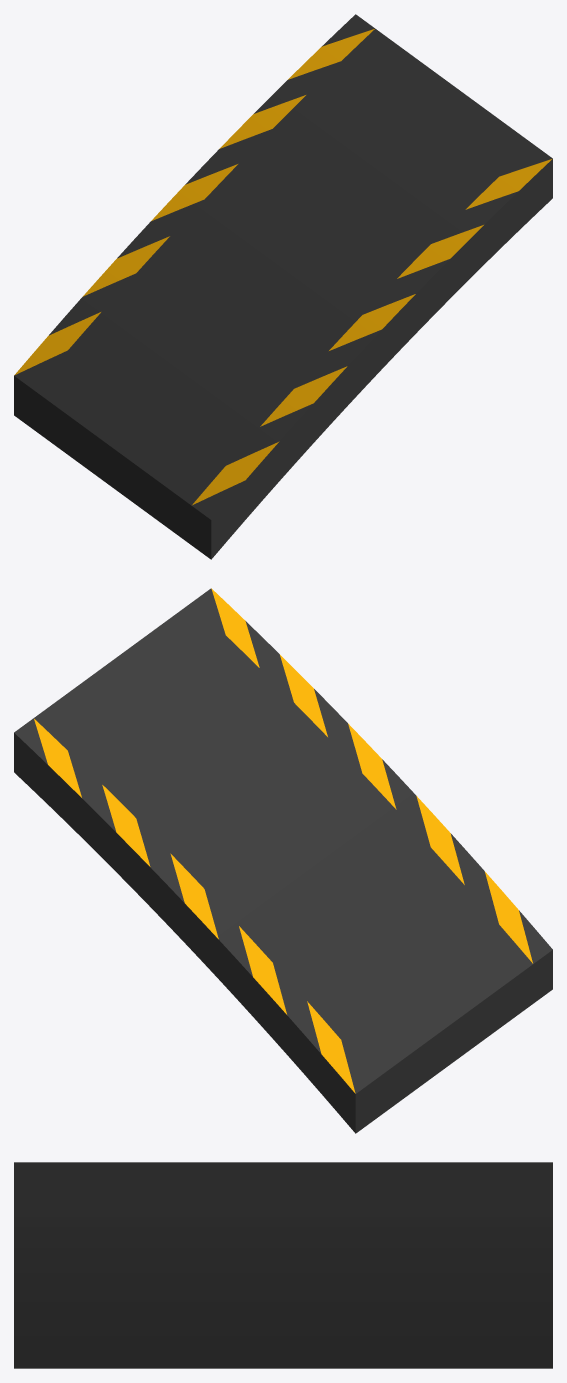
The picture shows the model from 3 angles, top to bottom: view 1: azimuth 30°, elevation 25°; view 2: azimuth 150°, elevation 25°; view 3: azimuth 270°, elevation 25°; orthographic projection. The views are drawn at different scales.
Visible parts, largest first — view 1: e34; view 2: e34; view 3: e34.
Part boxes in pixels (left/top/right/bottom): e34: left=14, top=14, right=552, bottom=559; e34: left=14, top=588, right=552, bottom=1133; e34: left=14, top=1162, right=552, bottom=1368.
Bounding box in the file's own units: 9 × 8 × 9.
